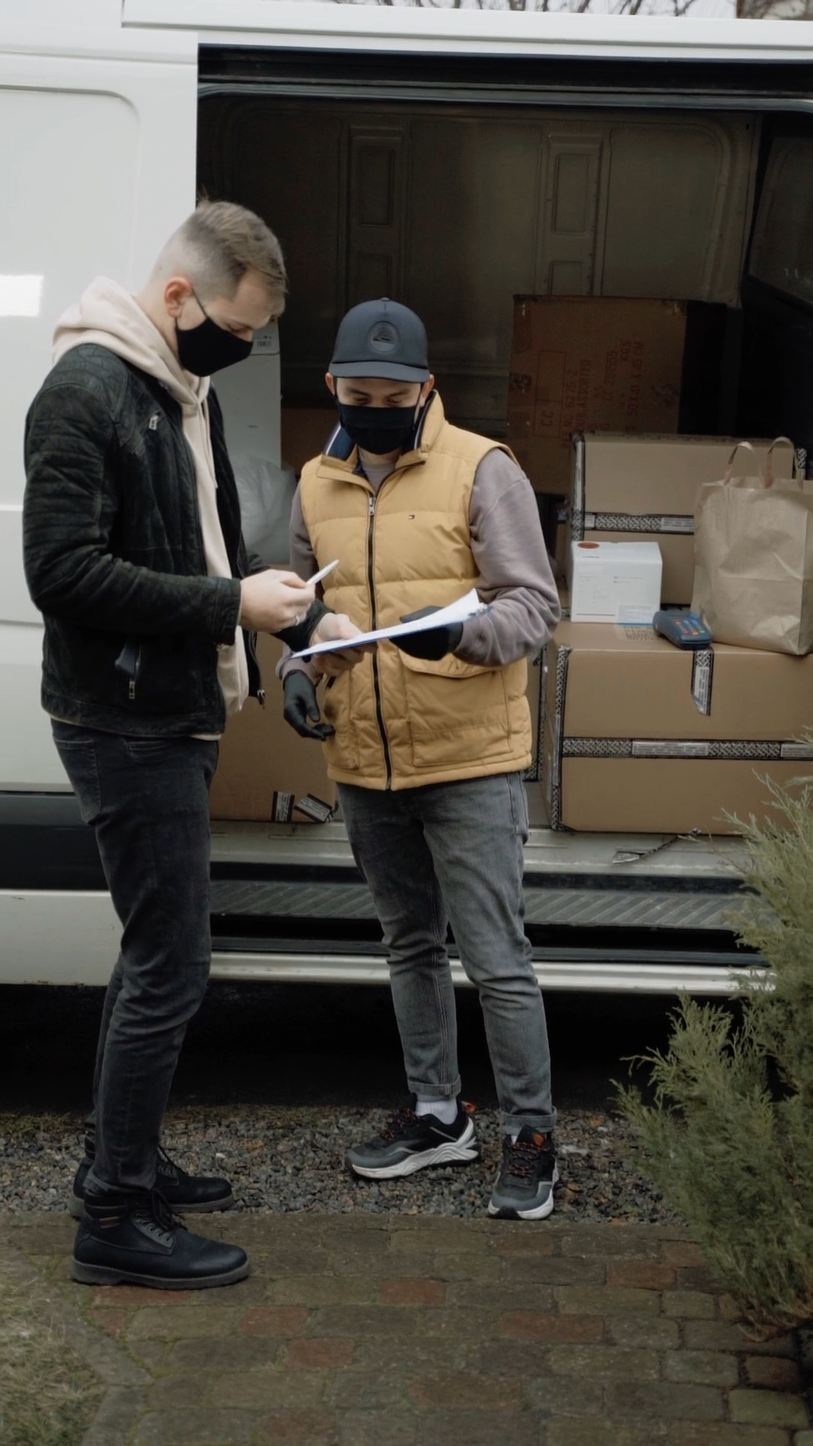No-gloves: (228, 550, 344, 626), (307, 606, 379, 683)
gloves: (261, 658, 364, 758), (386, 601, 484, 673)
